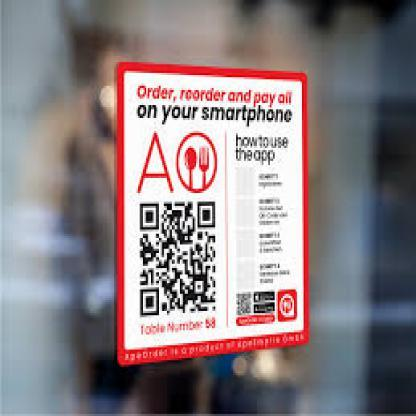qr_code: (139, 200, 216, 316)
